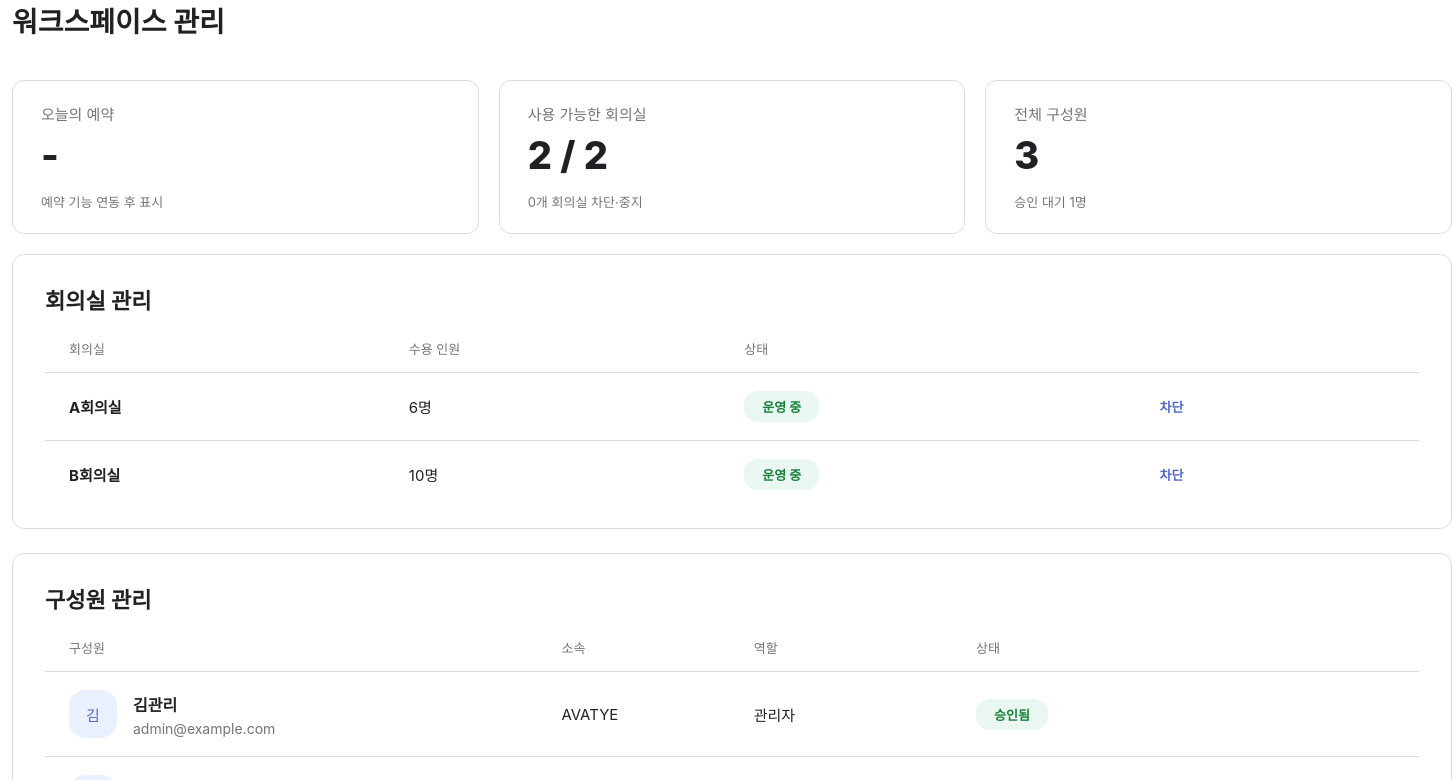
Test: AdminPage › 회의실을 차단하면 끝나는 시각을 보여 준다
Expected: the text "A회의실" is shown, x1=45 y1=372 x2=385 y2=440
Step 1. Click the button "차단" in the row of "A회의실" → click(1171, 406), box x1=1160 y1=397 x2=1183 y2=416
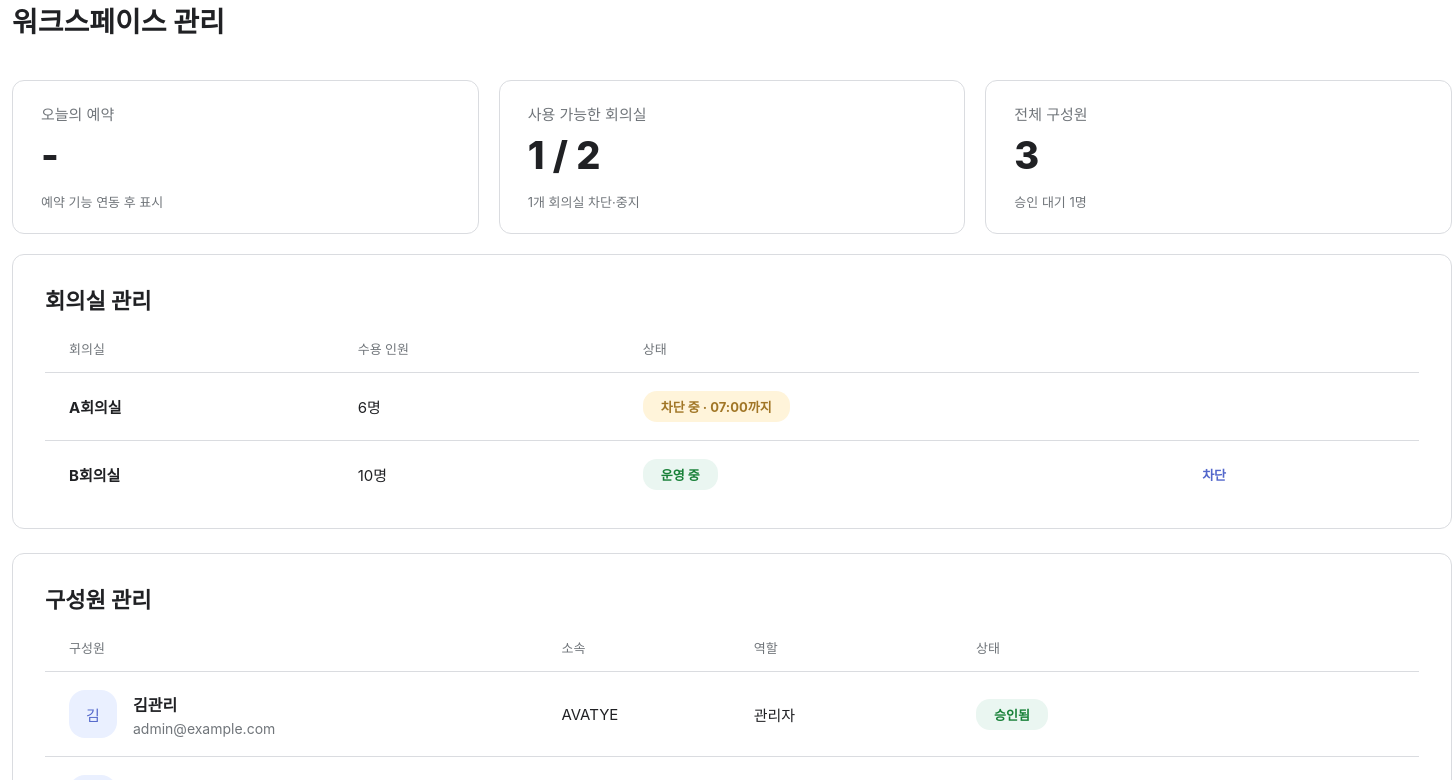
Now the text "1 / 2" is shown, box x1=528 y1=132 x2=600 y2=178
